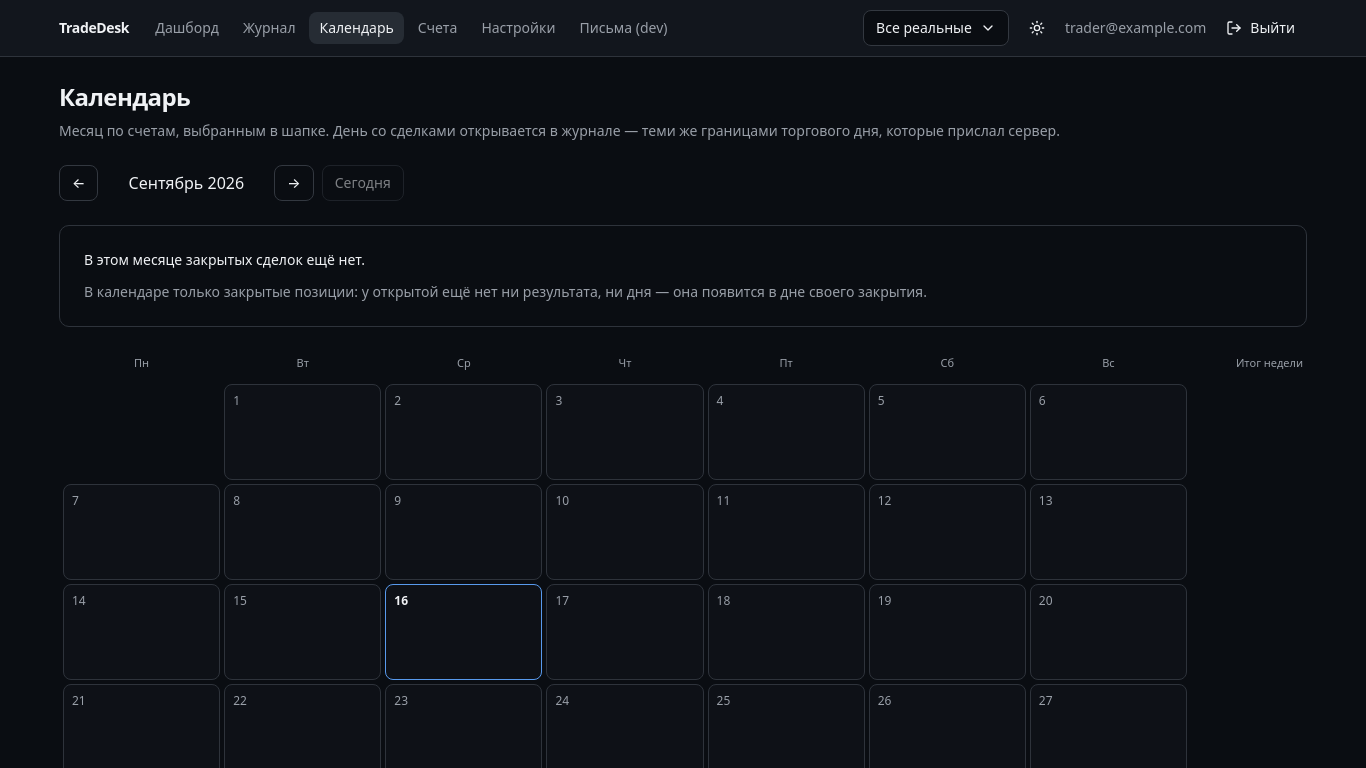
Test: пресеты выбора › галочка на демо-счёте поверх «Всех реальных» добавляется к ним, а не заменяет их
Check: the heading "Календарь" is shown, box [59,80,190,113]
Click the button with aria-label "Выбрать счета" at (936, 28), box [863,10,1009,46]
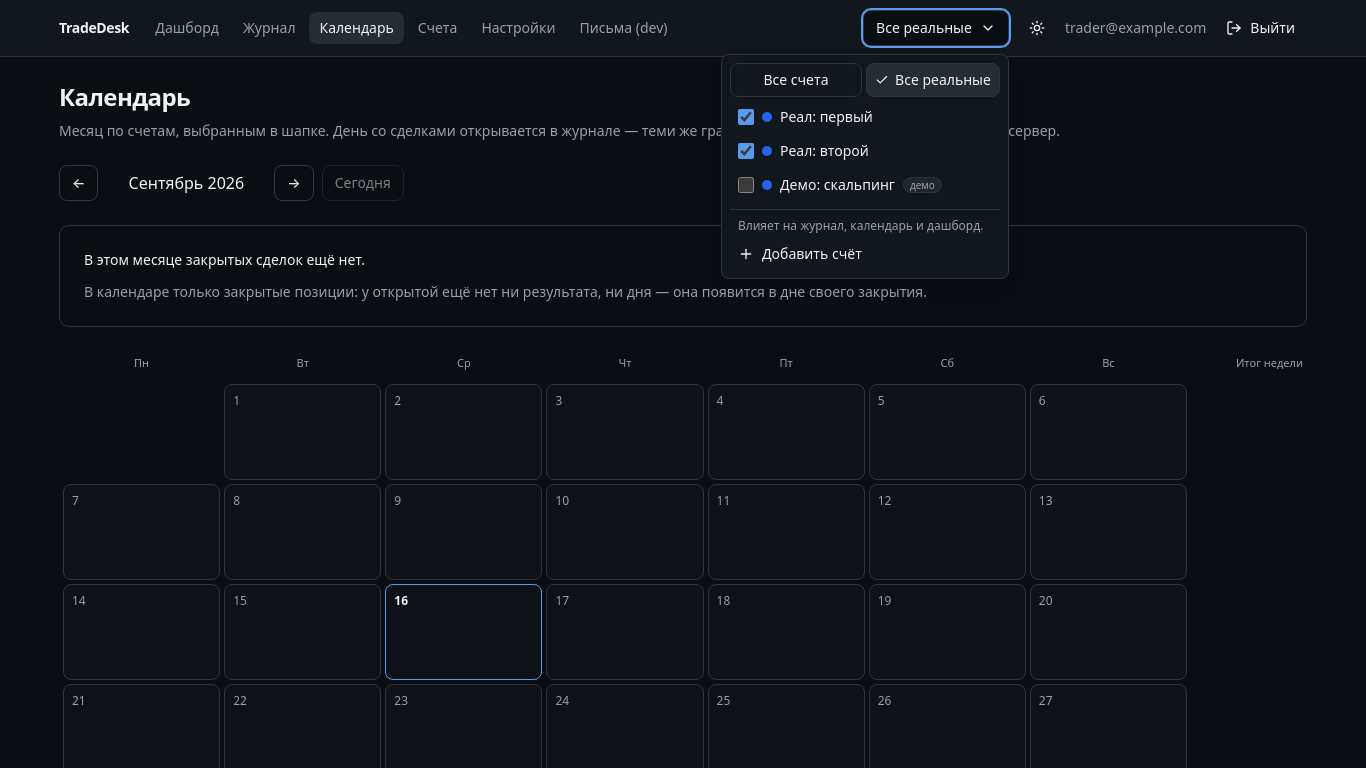
Click the checkbox labelled "Демо: скальпинг демо" at (746, 185), box [738,177,754,193]
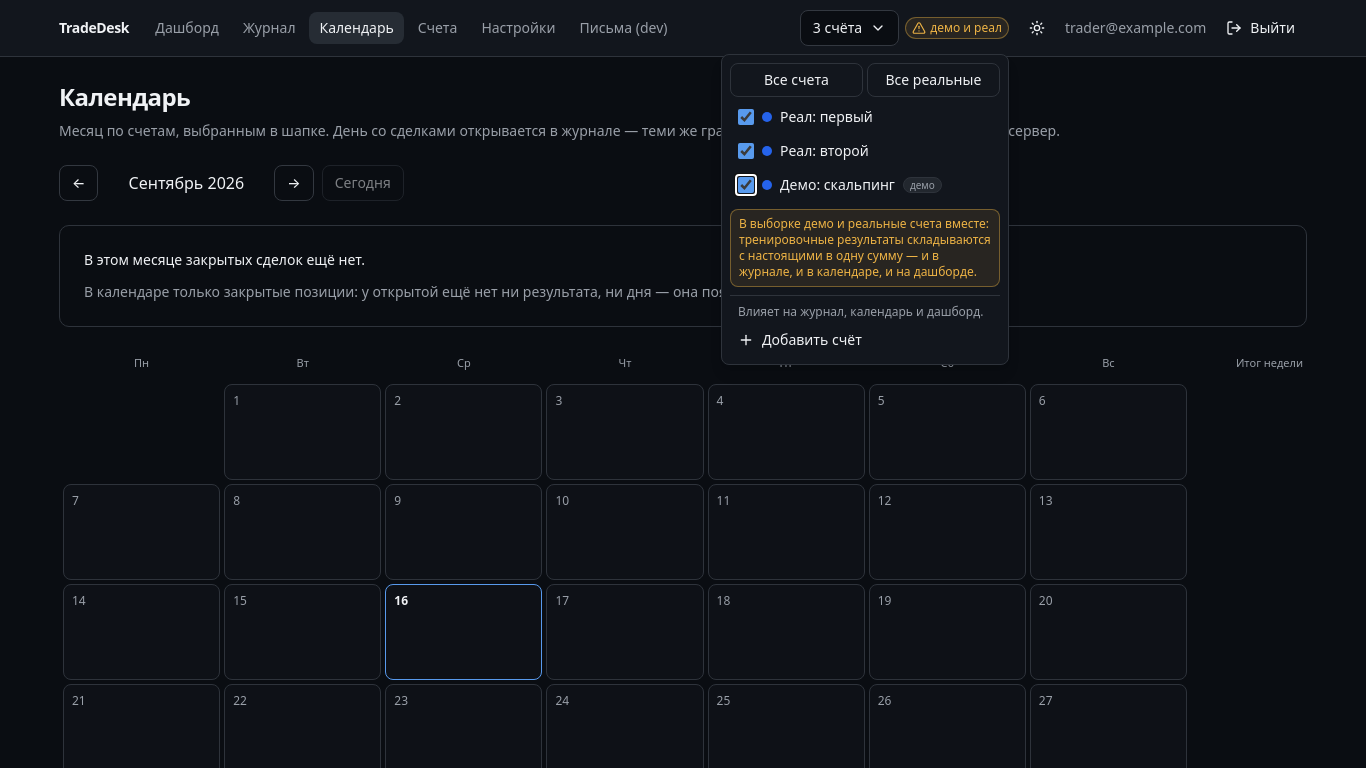
Check: the text "демо и реал" is shown, box [930,20,1002,36]
